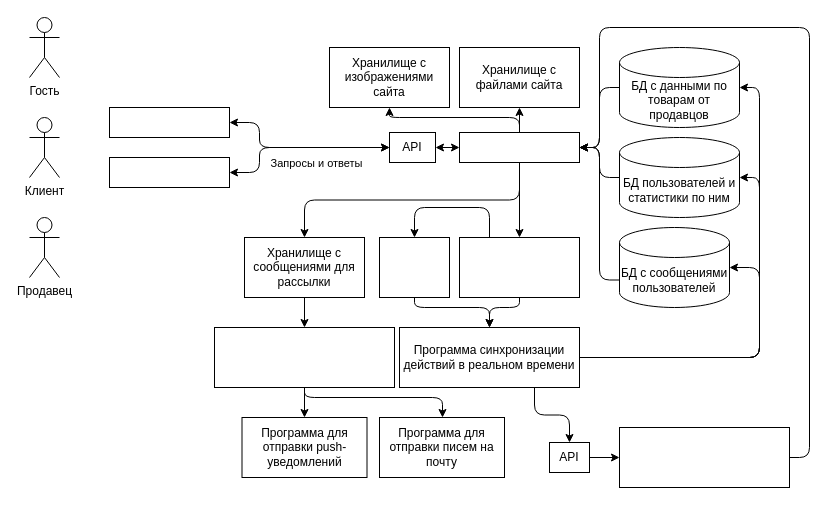
Some shapes in this 835 by 505 pixel diagram are drawn without their labels. Each missing label, with the centre of its shape:
Web-browser: point 169,122
Web-service: point 519,147
Очередь на отправку сообщений/уведомлений: point 304,357
Платежная система: point 414,267
Приложение: point 169,172
Программа считывающая действия на сайте: point 519,267
Хранилище данных стороннего интернет магазина: point 704,457
